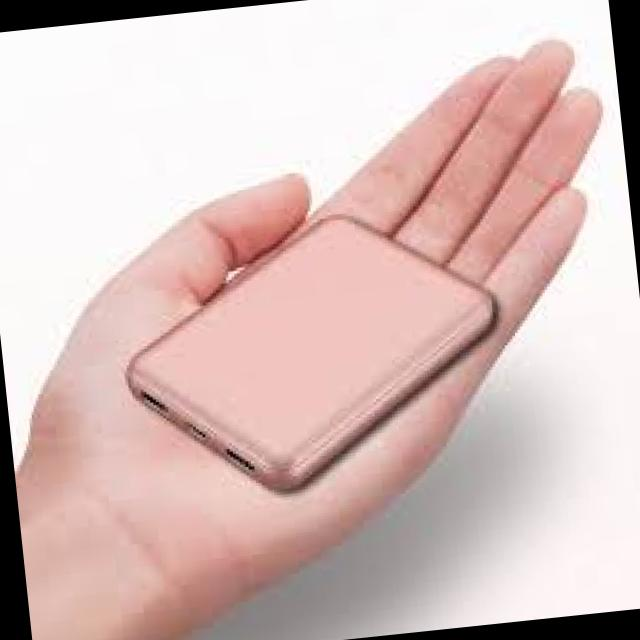power_bank: (114, 195, 522, 516)
